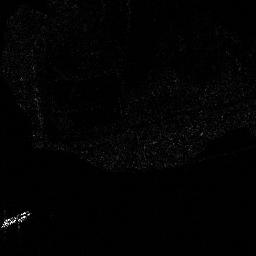ship: (1, 211, 32, 229)
